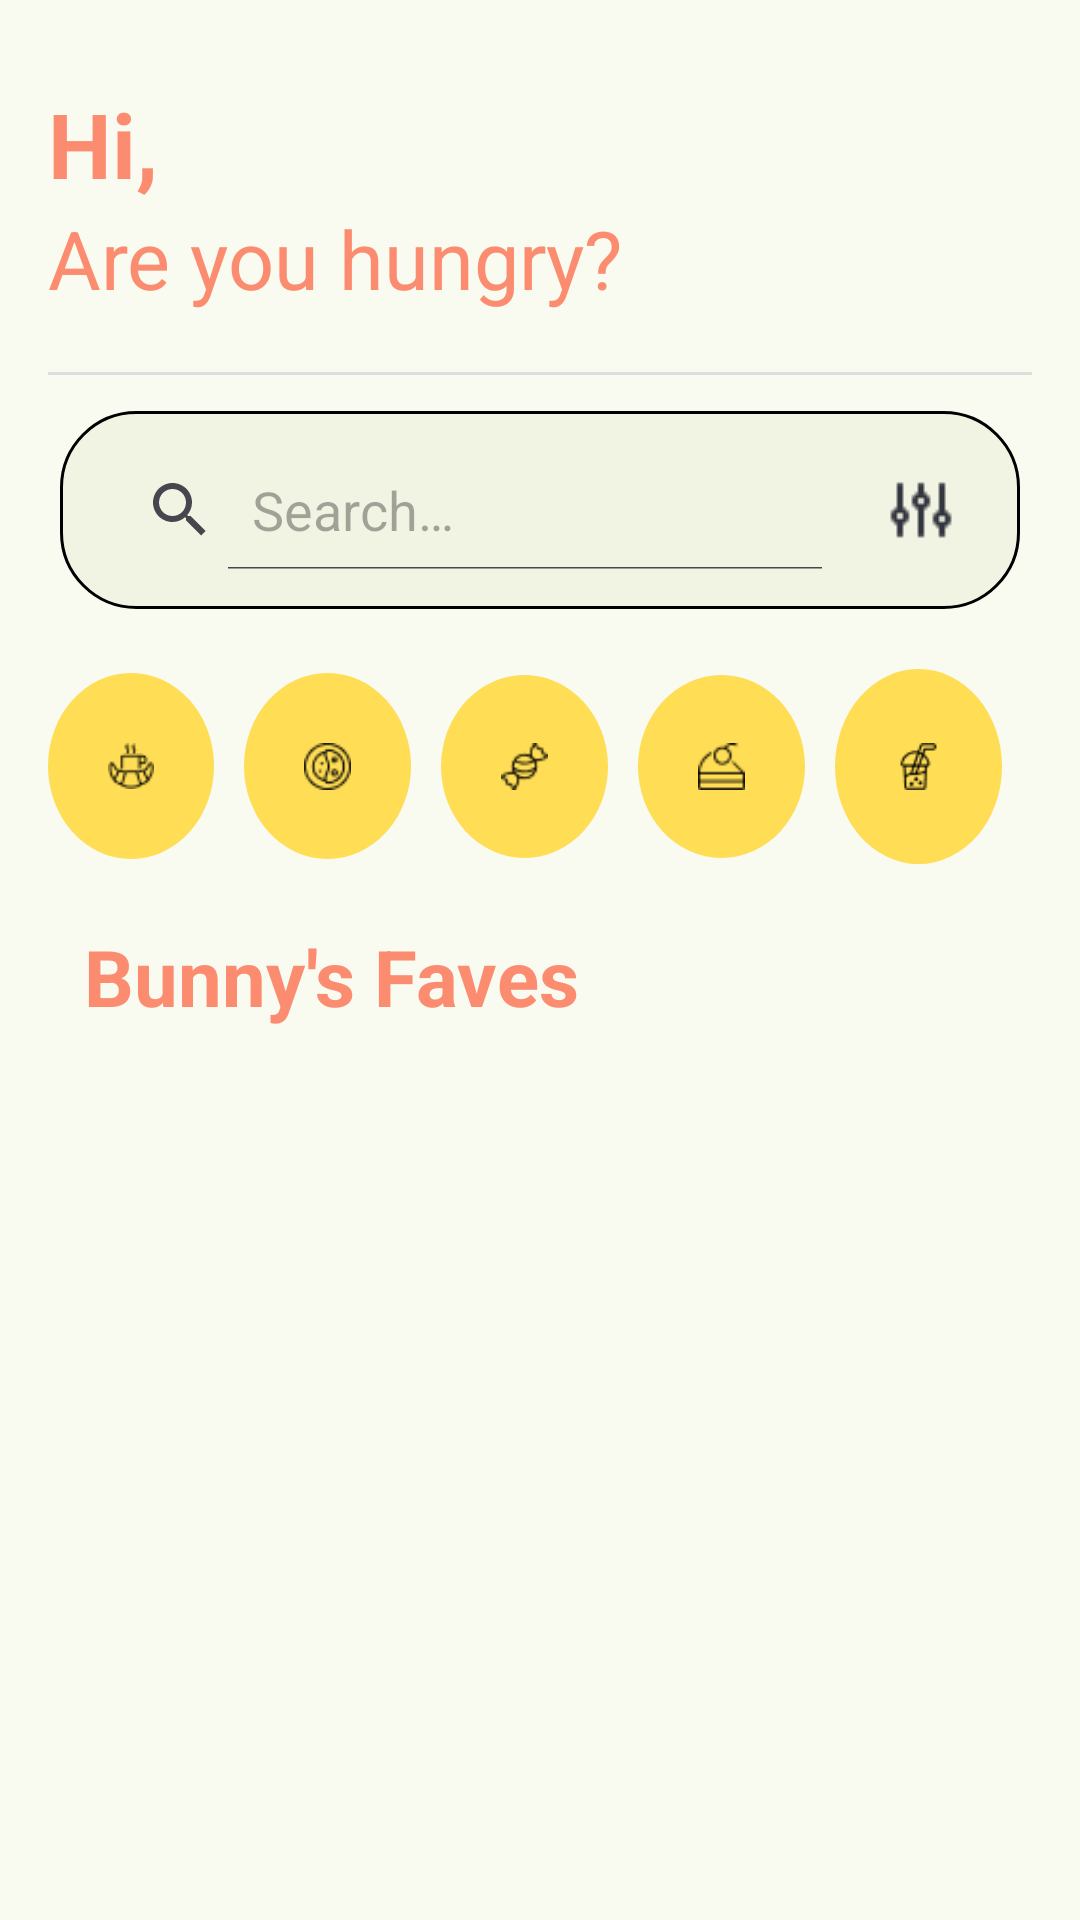

Icons on this 1080w x 1920h Android screen, each with the point to tap as [x,y]:
Beverages: [918,766]
Breakfast: [131,766]
Desserts: [721,766]
Dinner: [327,766]
filter: [921,510]
Snacks: [524,766]
